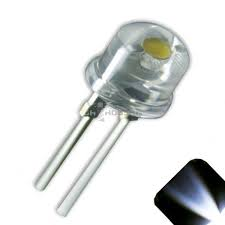LED: (77, 14, 193, 149)
